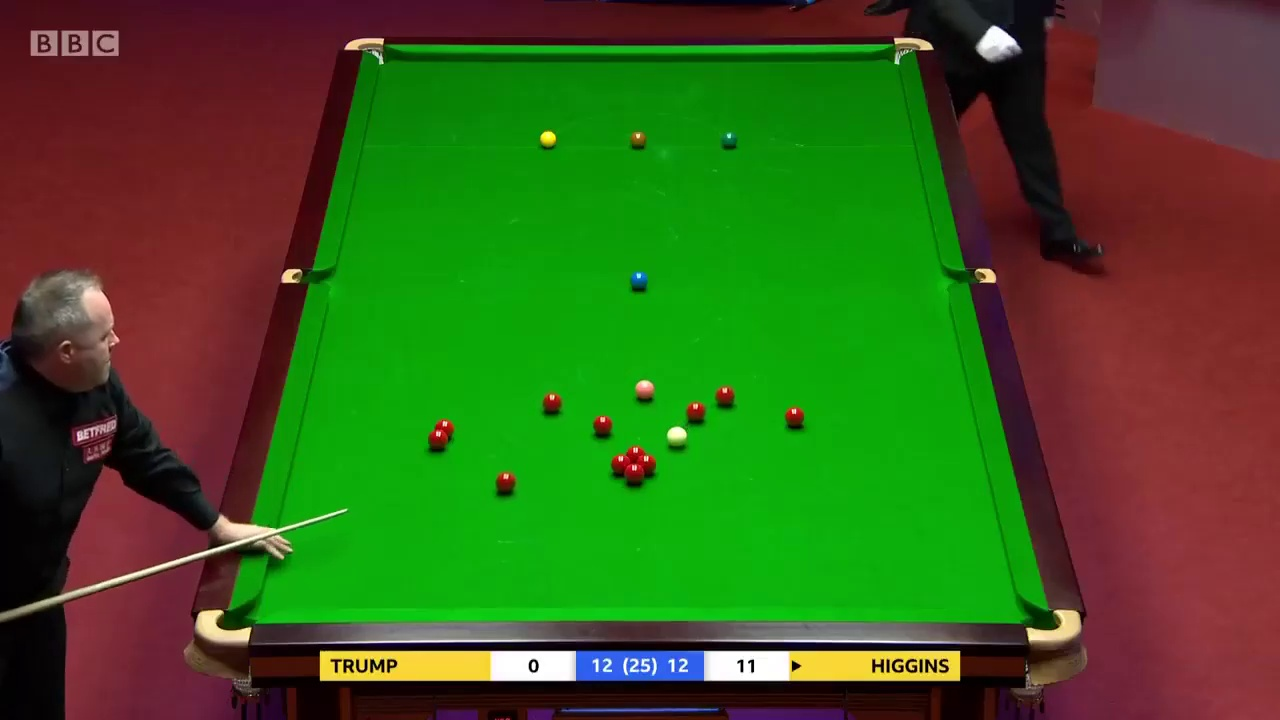blue: (627, 270, 649, 291)
brown: (629, 131, 647, 150)
green: (718, 131, 740, 149)
pink: (634, 382, 656, 399)
red: (493, 470, 516, 496), (540, 392, 562, 413), (622, 464, 645, 483), (786, 404, 804, 428), (686, 400, 706, 421), (714, 385, 735, 405), (592, 415, 613, 433), (430, 429, 447, 449)
white: (667, 425, 688, 450)
yellow: (539, 128, 558, 151)
